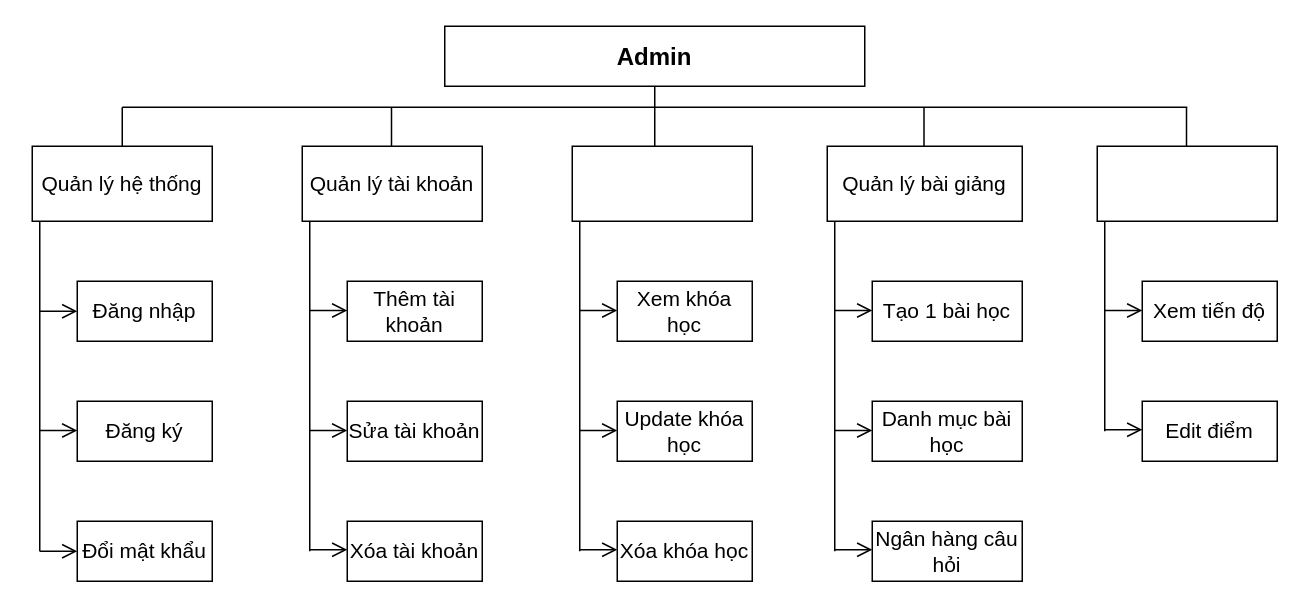
The diagram is 1304 pixels wide and 608 high, and some of its shapes have lost their labels. Each missing label, with the box of its shape:
Quản lý khóa học: (571, 145, 752, 221)
Quản lý điểm: (1096, 145, 1277, 221)
